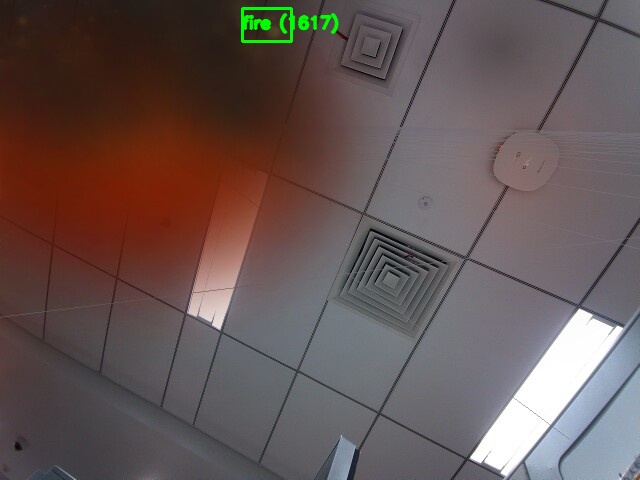fire: (242, 8, 291, 41)
